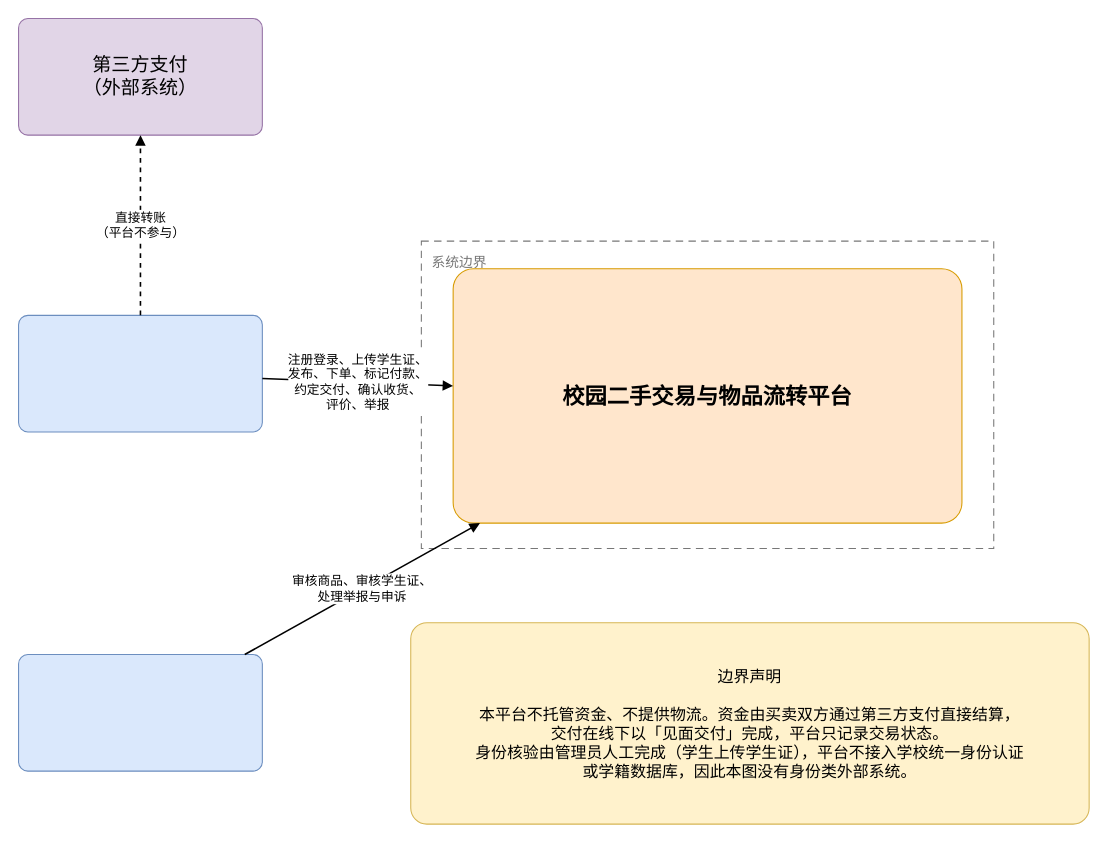
This 1108x843 diagram has some shape labels left out. Each missing label, with the centre of its shape:
"学生 （参与者）" goes at [139,373].
"管理员 （参与者）" goes at [139,712].
